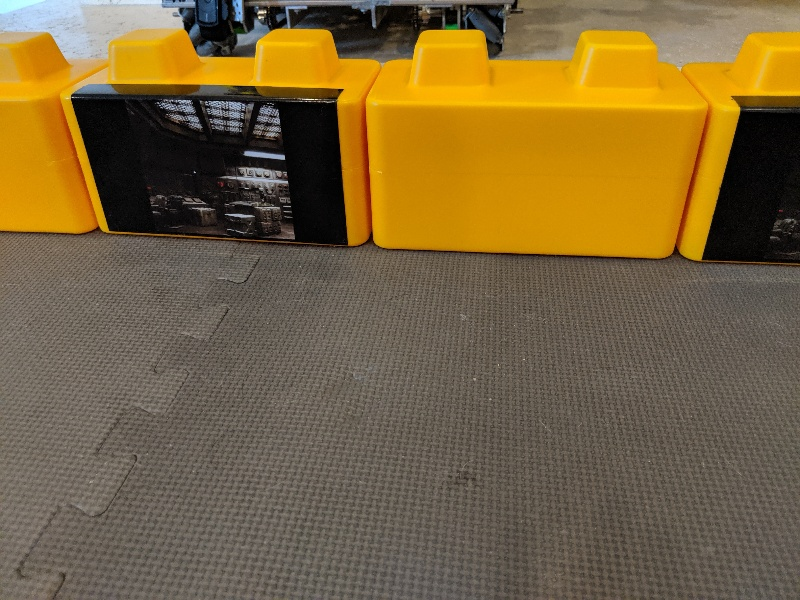Skystone: (62, 73, 360, 254)
